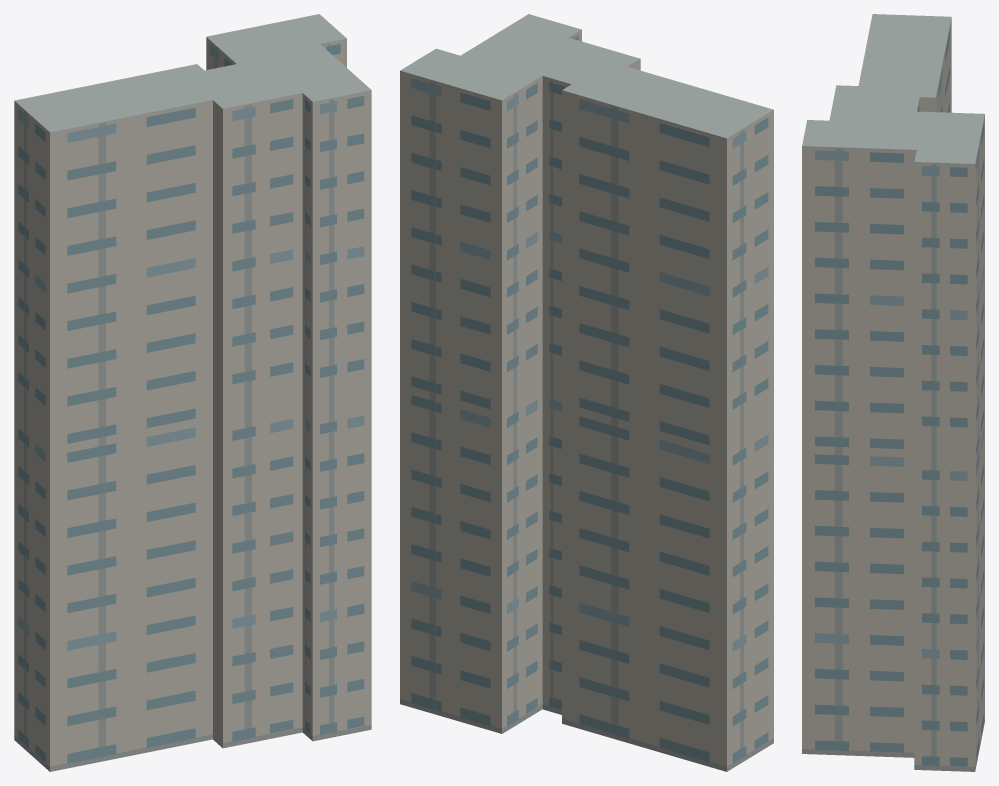
The model's file is residential-72b60c6f-cda0-4763-864c-55b0197814b9.glb.
3 views of the same model, side by side, from view 1: azimuth 30°, elevation 25°; view 2: azimuth 150°, elevation 25°; view 3: azimuth 270°, elevation 25° (orthographic). The views are drawn at different scales.
Parts seen in each view (by area): view 1: residential-72b60c6f-cda0-4763-864c-55b0197814b9.tmp; view 2: residential-72b60c6f-cda0-4763-864c-55b0197814b9.tmp; view 3: residential-72b60c6f-cda0-4763-864c-55b0197814b9.tmp.
Part boxes in pixels (x1=…): residential-72b60c6f-cda0-4763-864c-55b0197814b9.tmp: x1=14, y1=14, x2=371, y2=771; residential-72b60c6f-cda0-4763-864c-55b0197814b9.tmp: x1=400, y1=14, x2=773, y2=771; residential-72b60c6f-cda0-4763-864c-55b0197814b9.tmp: x1=802, y1=14, x2=984, y2=771.
Bounding box in the file's own units: 52.94 × 100 × 27.26.
